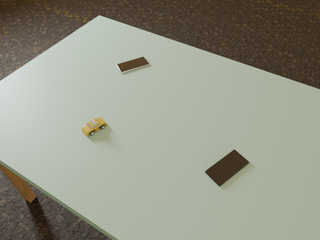phone: (205, 150, 249, 186), (117, 57, 149, 73)
toy_car: (82, 118, 107, 136)
